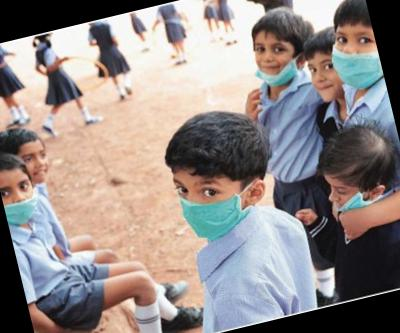mask_weared_incorrect: (248, 36, 301, 91), (325, 177, 368, 218)
with_mask: (170, 160, 251, 248), (324, 22, 386, 96)
without_mask: (306, 53, 344, 106), (19, 145, 54, 188)
